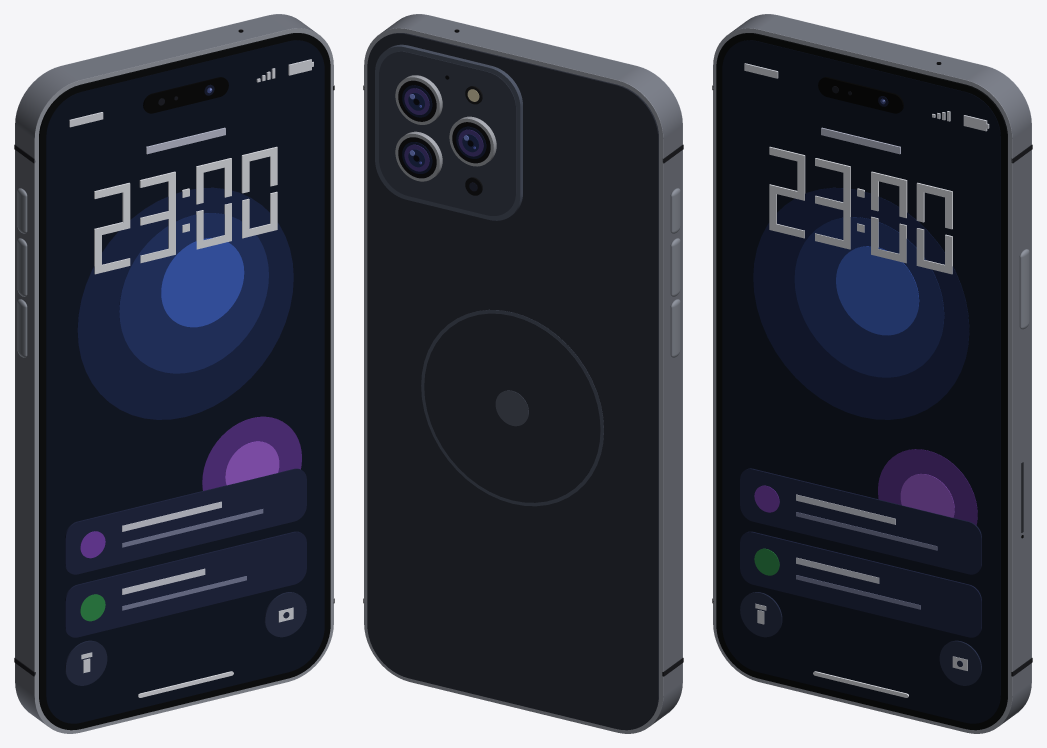
File: 1794834688119_generic_flagship_smartphone.glb
The picture shows the model from 3 angles, left to right: view 1: azimuth 30°, elevation 25°; view 2: azimuth 150°, elevation 25°; view 3: azimuth 330°, elevation 25°; orthographic projection.
Parts seen in each view (by area): view 1: centro_47, halo_azul_externo_55, lado_esquerdo_48, lado_direito_49, halo_azul_medio_56, card2_centro_114, card1_centro_104, lado_esquerdo_4, halo_azul_interno_57, centro_3, lado_esquerdo_39, lado_direito_40 (+27 smaller); view 2: centro_27, anel_magnetico_interno_35, lado_esquerdo_28, lado_direito_29, lado_esquerdo_4, centro_144, canto_inf_esq_32, centro_3, canto_inf_dir_33, lado_esquerdo_20, canto_sup_esq_30, anel_magnetico_externo_34 (+22 smaller); view 3: centro_47, halo_azul_externo_55, lado_esquerdo_48, lado_direito_49, halo_azul_medio_56, lado_direito_5, card2_centro_114, card1_centro_104, halo_azul_interno_57, centro_3, lado_esquerdo_39, lado_direito_40 (+26 smaller).
Boxes of the visible parts, x1,y1,x2,y2 form: centro_47: [81, 41, 289, 722]; halo_azul_externo_55: [77, 187, 293, 419]; lado_esquerdo_48: [46, 129, 81, 694]; lado_direito_49: [289, 70, 324, 633]; halo_azul_medio_56: [119, 213, 268, 373]; card2_centro_114: [78, 532, 294, 636]; card1_centro_104: [78, 469, 294, 574]; lado_esquerdo_4: [15, 125, 34, 695]; halo_azul_interno_57: [161, 238, 244, 327]; centro_3: [61, 15, 287, 79]; lado_esquerdo_39: [39, 137, 45, 695]; lado_direito_40: [324, 68, 330, 625]; centro_27: [408, 34, 616, 728]; anel_magnetico_interno_35: [424, 313, 600, 502]; lado_esquerdo_28: [616, 129, 658, 695]; lado_direito_29: [367, 68, 408, 634]; lado_esquerdo_4: [663, 125, 682, 695]; centro_144: [408, 52, 486, 214]; canto_inf_esq_32: [575, 641, 658, 730]; centro_3: [410, 15, 636, 79]; canto_inf_dir_33: [367, 590, 449, 678]; lado_esquerdo_20: [659, 138, 663, 695]; canto_sup_esq_30: [576, 84, 658, 173]; anel_magnetico_externo_34: [421, 309, 603, 506]; centro_47: [757, 41, 965, 722]; halo_azul_externo_55: [753, 187, 969, 419]; lado_esquerdo_48: [722, 70, 757, 633]; lado_direito_49: [965, 129, 1000, 694]; halo_azul_medio_56: [794, 217, 944, 377]; lado_direito_5: [1012, 125, 1031, 695]; card2_centro_114: [752, 532, 968, 636]; card1_centro_104: [752, 469, 968, 573]; halo_azul_interno_57: [836, 246, 919, 335]; centro_3: [759, 15, 985, 79]; lado_esquerdo_39: [716, 68, 722, 625]; lado_direito_40: [1001, 138, 1007, 695].
Bounding box in the file's own units: 7.44 × 15.06 × 1.27.
